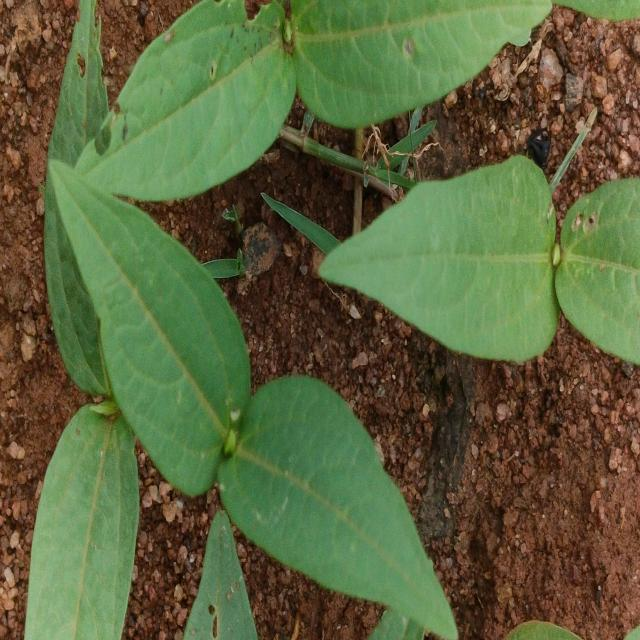Black gram_healthy: (46, 155, 252, 494), (213, 370, 462, 640), (317, 151, 558, 359), (72, 0, 303, 198)
